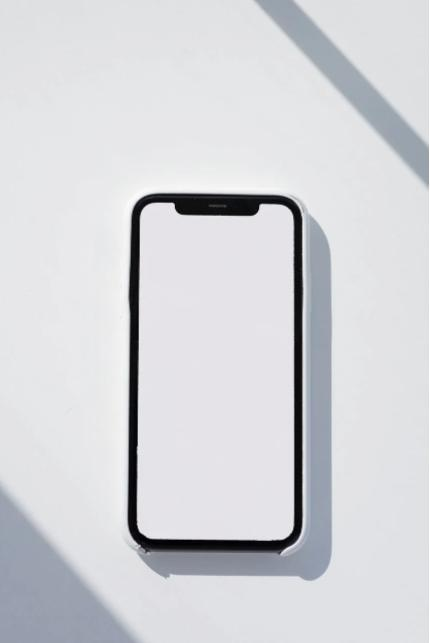mobile: (130, 191, 308, 553)
